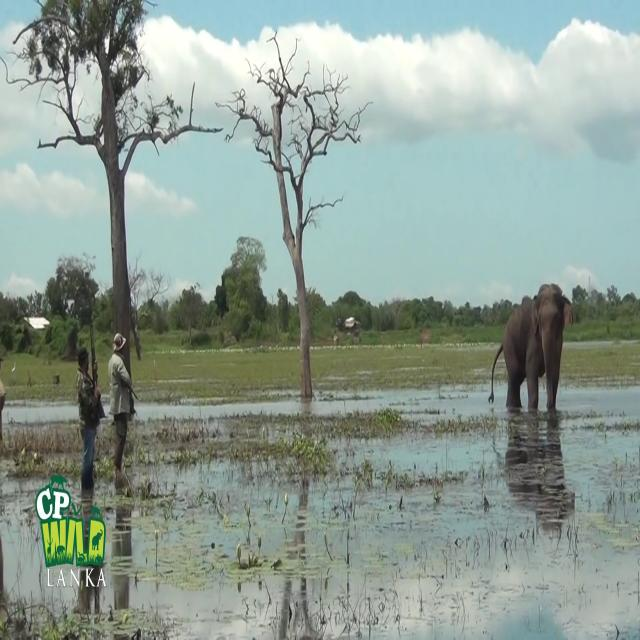Elephant: (488, 282, 574, 412)
person: (75, 345, 102, 492), (107, 332, 135, 472)
